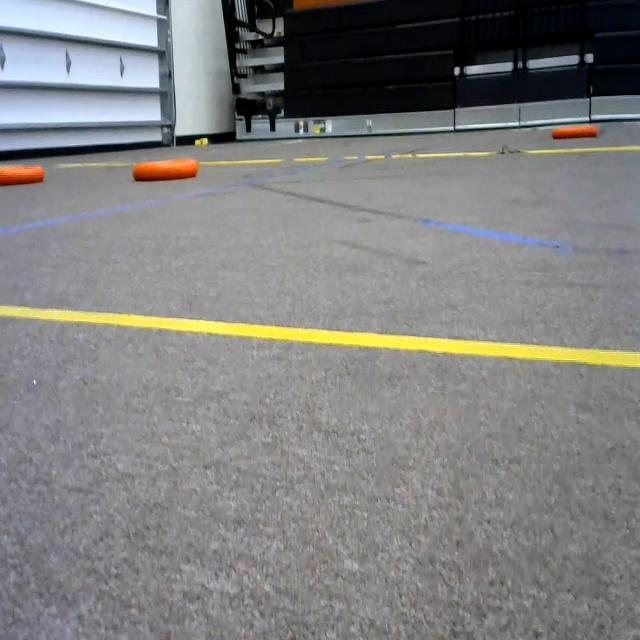note: (126, 153, 201, 183), (0, 160, 48, 191), (552, 124, 597, 142)
